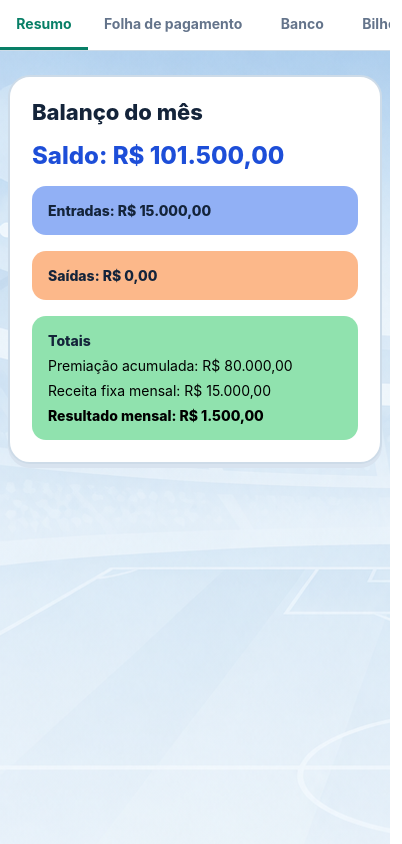
finance shows monthly revenue, result and payroll health
Expected: the text "Receita fixa mensal: R$ 15.000,00" is shown, [48, 382, 271, 399]
Expected: the text "Resultado mensal: R$ 1.500,00" is shown, [48, 407, 264, 424]
Click the tab "Folha de pagamento". click: coordinates (173, 24)
box: [104, 15, 242, 32]
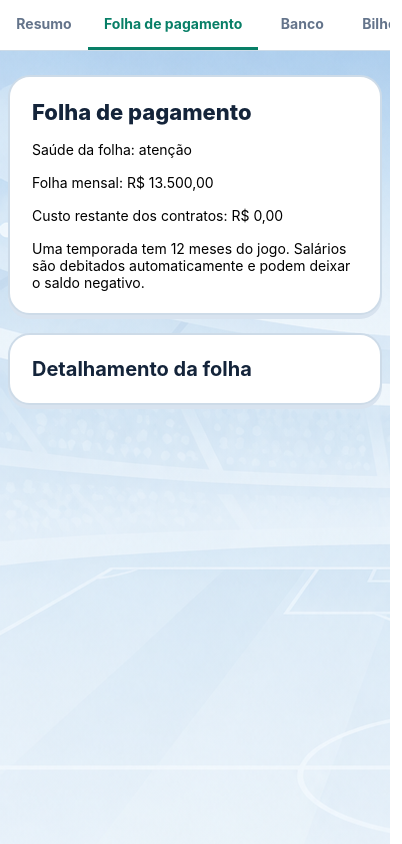
Expected: the text "Saúde da folha: atenção" is shown, [32, 141, 192, 158]
